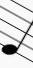note: (1, 1, 32, 57)
